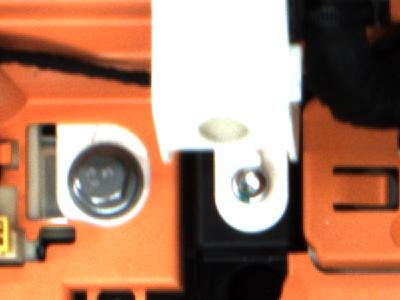nut_b: (69, 148, 145, 223)
screw_m: (226, 165, 277, 207)
